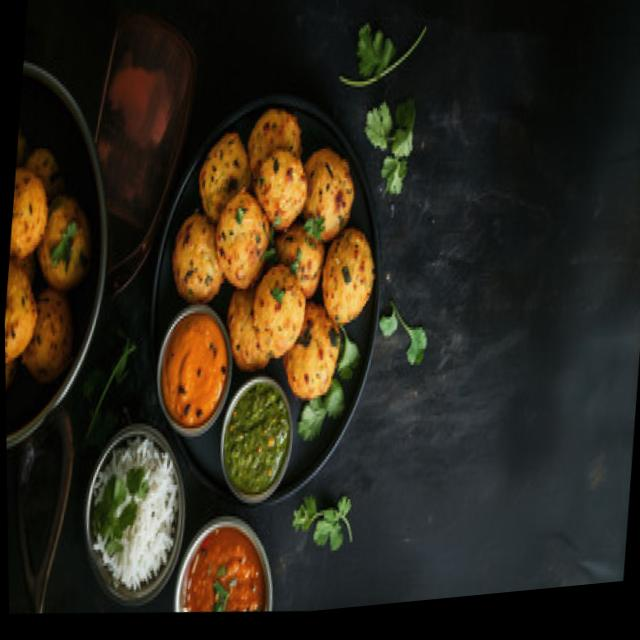BONDA: (166, 101, 373, 398), (5, 132, 89, 380)
CURRY: (184, 530, 262, 606)
GREEN CHUTNEY: (223, 382, 287, 493)
RED CHUTNEY: (160, 311, 227, 423)
RICE: (86, 433, 177, 586)
